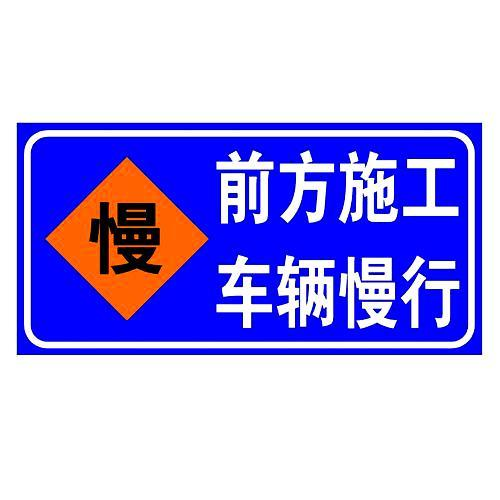sign: (21, 128, 477, 352)
